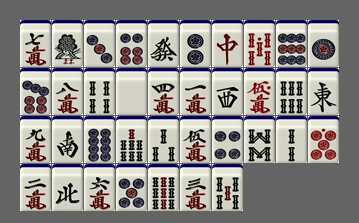0m: (244, 68, 275, 115)
0p: (308, 116, 339, 163)
0s: (244, 20, 275, 67)
1m: (180, 68, 211, 115)
1p: (308, 20, 339, 67)
1s: (52, 20, 83, 67)
1z: (308, 68, 339, 115)
2m: (20, 164, 51, 211)
2p: (180, 20, 211, 67)
2s: (276, 116, 307, 163)
2z: (52, 116, 83, 163)
3m: (180, 164, 211, 211)
3p: (84, 20, 115, 67)
3s: (148, 116, 179, 163)
3z: (212, 68, 243, 115)
4m: (148, 68, 179, 115)
4p: (212, 116, 243, 163)
4s: (84, 68, 115, 115)
4z: (52, 164, 83, 211)
5m: (180, 116, 211, 163)
5p: (116, 164, 147, 211)
5s: (212, 164, 243, 211)
5z: (116, 68, 147, 115)
6m: (84, 164, 115, 211)
6p: (116, 20, 147, 67)
6s: (276, 68, 307, 115)
6z: (148, 20, 179, 67)
7m: (20, 20, 51, 67)
7p: (20, 68, 51, 115)
7s: (116, 116, 147, 163)
7z: (212, 20, 243, 67)
8m: (52, 68, 83, 115)
8p: (84, 116, 115, 163)
8s: (244, 116, 275, 163)
9m: (20, 116, 51, 163)
9p: (276, 20, 307, 67)
9s: (148, 164, 179, 211)
